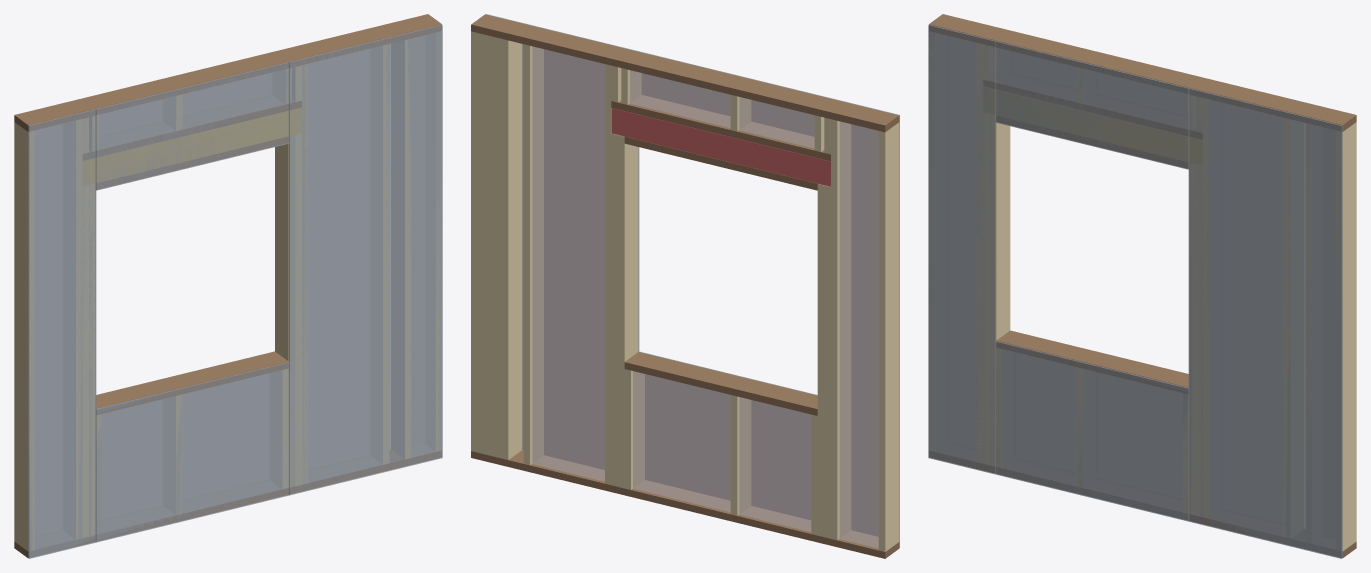
3 views of the same model, side by side, from view 1: azimuth 30°, elevation 25°; view 2: azimuth 150°, elevation 25°; view 3: azimuth 330°, elevation 25° (orthographic).
Parts seen in each view (by area): view 1: EX14 FF; view 2: EX14 FF; view 3: EX14 FF.
Part boxes in pixels (box(x1,y1,x2,y2)): EX14 FF: box(14, 14, 442, 558); EX14 FF: box(471, 14, 899, 558); EX14 FF: box(928, 14, 1356, 558).
Bounding box in the file's own units: 2.4 × 2.4 × 0.149.
